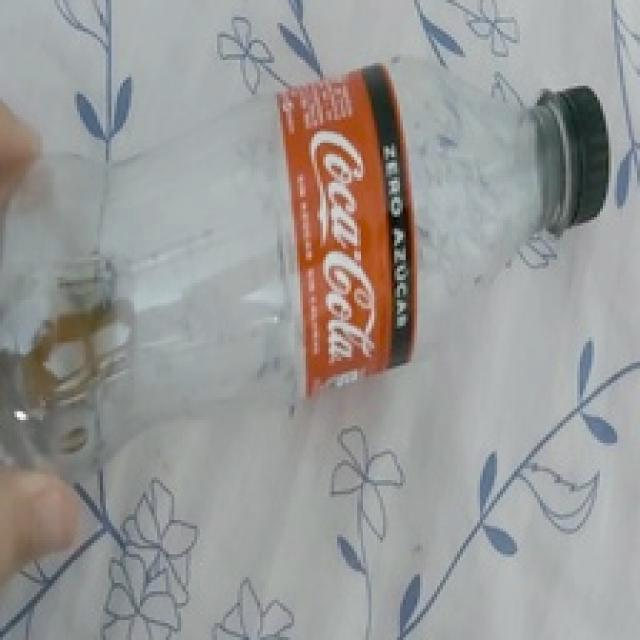bottle: (0, 57, 612, 486)
